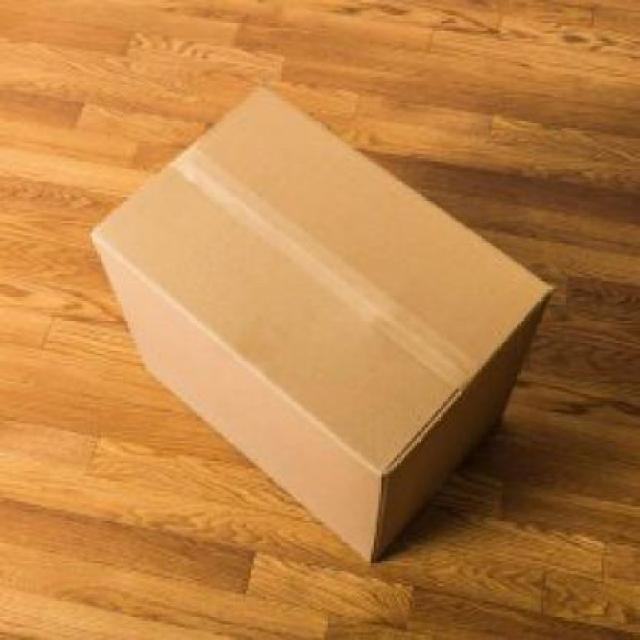box: (90, 87, 548, 563)
